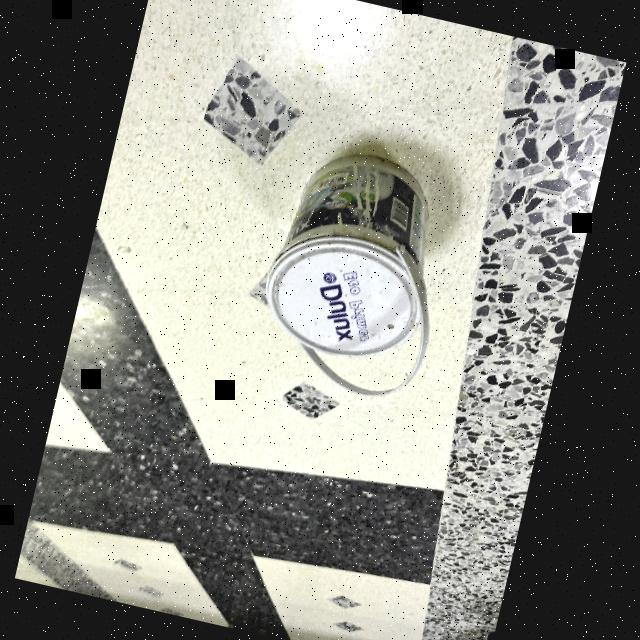paint_bucket: (251, 130, 452, 378)
